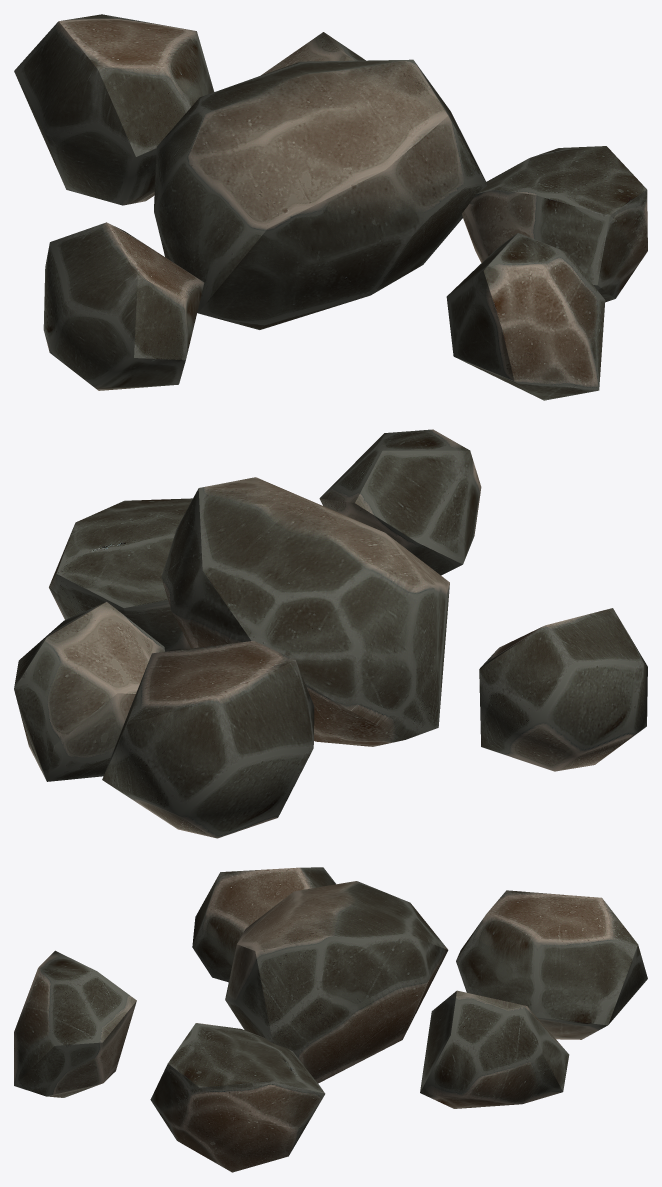
Rendered from pebble_group_5.fbx.
The picture shows the model from 3 angles, top to bottom: view 1: azimuth 30°, elevation 25°; view 2: azimuth 150°, elevation 25°; view 3: azimuth 270°, elevation 25°; orthographic projection. The views are drawn at different scales.
Parts seen in each view (by area): view 1: pebble_group_5; view 2: pebble_group_5; view 3: pebble_group_5.
Part boxes in pixels (bbox=[...]): pebble_group_5: bbox=[14, 14, 647, 400]; pebble_group_5: bbox=[14, 429, 647, 838]; pebble_group_5: bbox=[14, 867, 647, 1172].
Size of the model in its own units: 1.31 by 0.5106 by 1.56.
